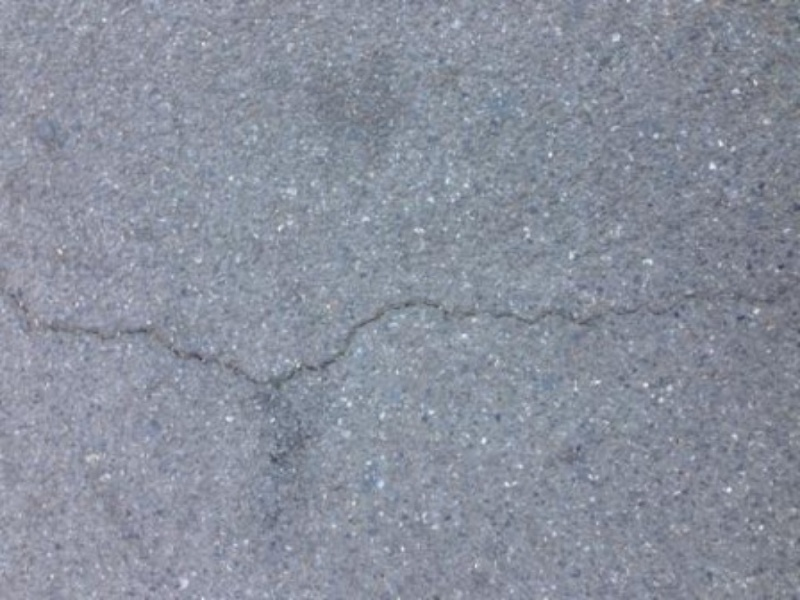crack: (18, 245, 783, 424)
